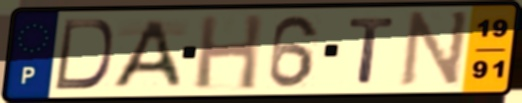6: (265, 13, 322, 91)
A: (108, 17, 185, 90)
D: (51, 17, 116, 92)
H: (192, 12, 266, 92)
N: (396, 8, 473, 90)
T: (346, 15, 400, 86)
